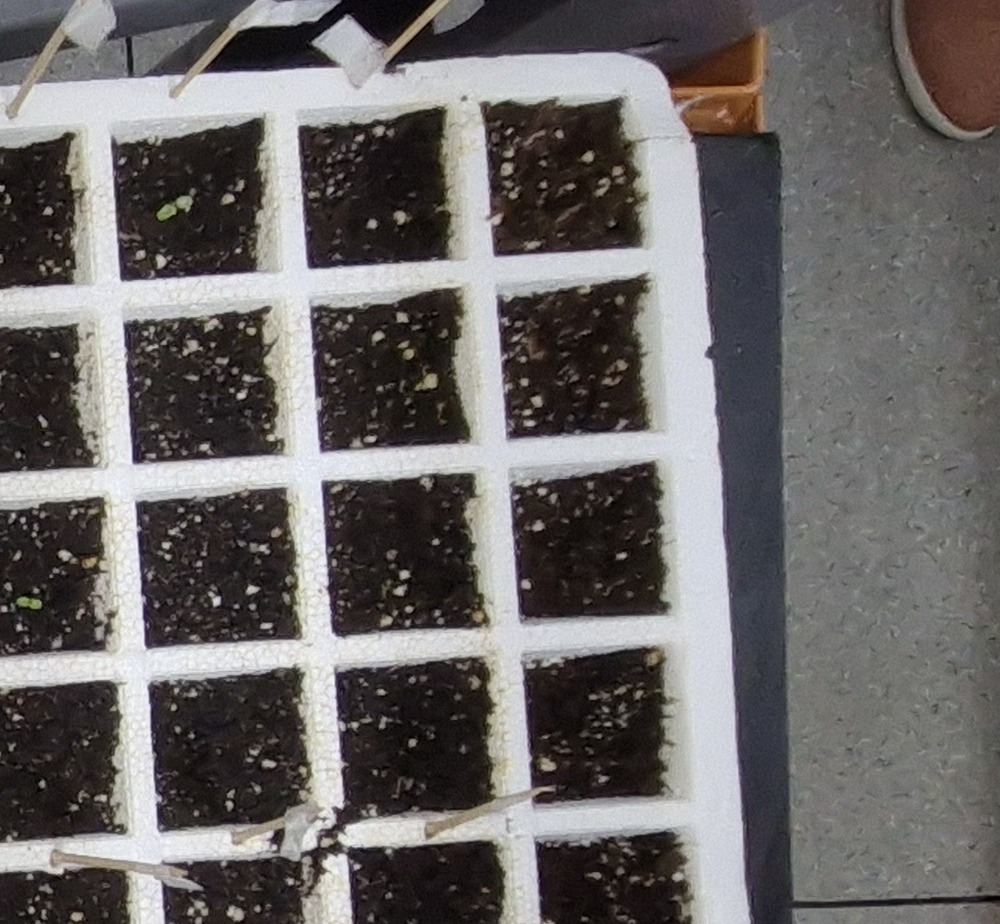Folha: (157, 204, 177, 220), (176, 196, 193, 208), (17, 597, 30, 607), (30, 600, 42, 608)
Germinacao: (157, 195, 193, 220), (18, 596, 42, 609)
